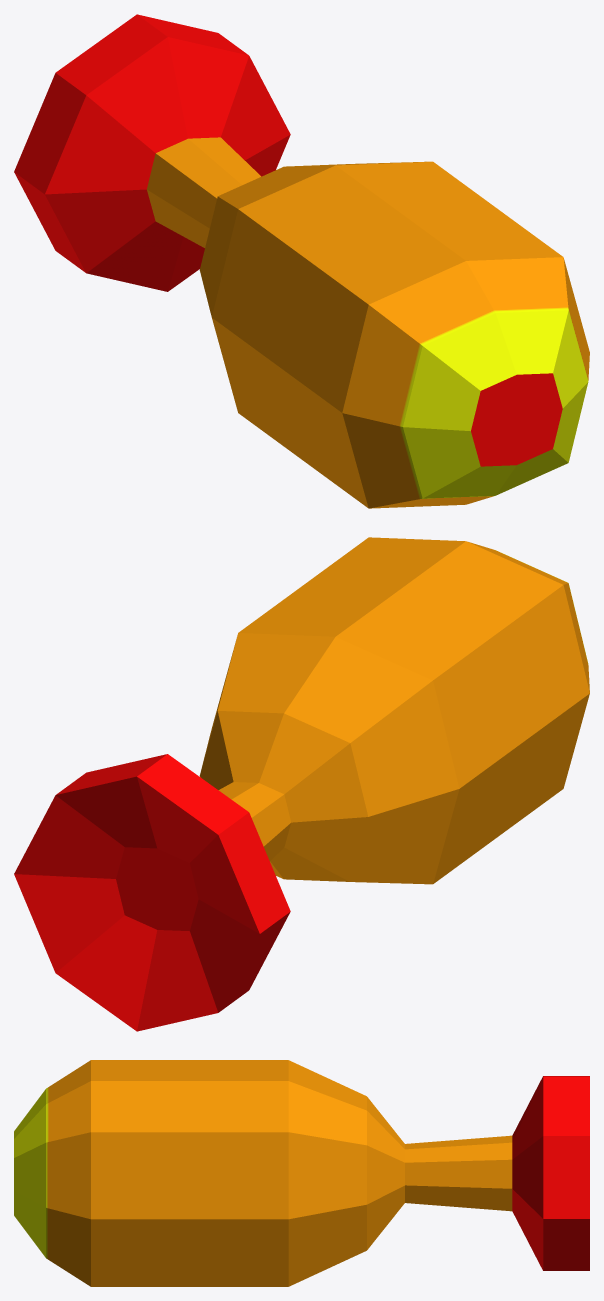
Rendered from Bomb.fbx.
3 views of the same model, one above another, from view 1: azimuth 30°, elevation 25°; view 2: azimuth 150°, elevation 25°; view 3: azimuth 270°, elevation 25° (orthographic). The views are drawn at different scales.
Parts seen in each view (by area): view 1: bomb; view 2: bomb; view 3: bomb.
Part boxes in pixels (left/top/right/bottom): bomb: left=14, top=14, right=589, bottom=508; bomb: left=14, top=537, right=589, bottom=1031; bomb: left=14, top=1060, right=589, bottom=1286.
Bounding box in the file's own units: 3.18 × 3.13 × 8.44.
